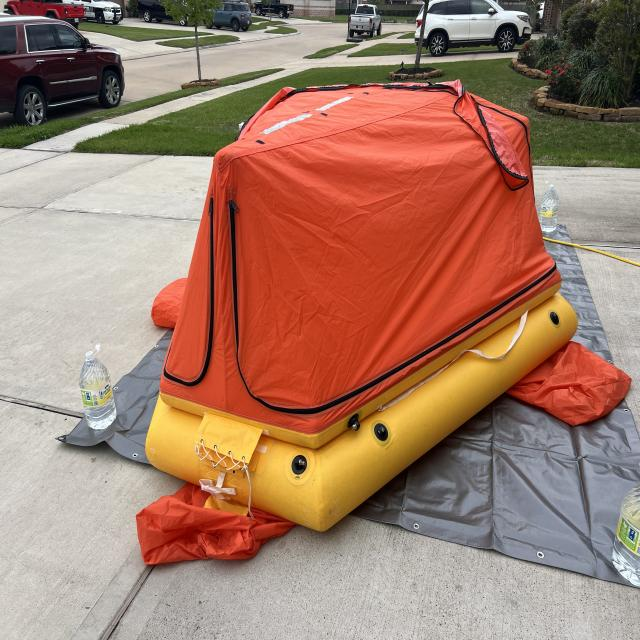Multi-person_life_raft: (137, 78, 632, 566)
